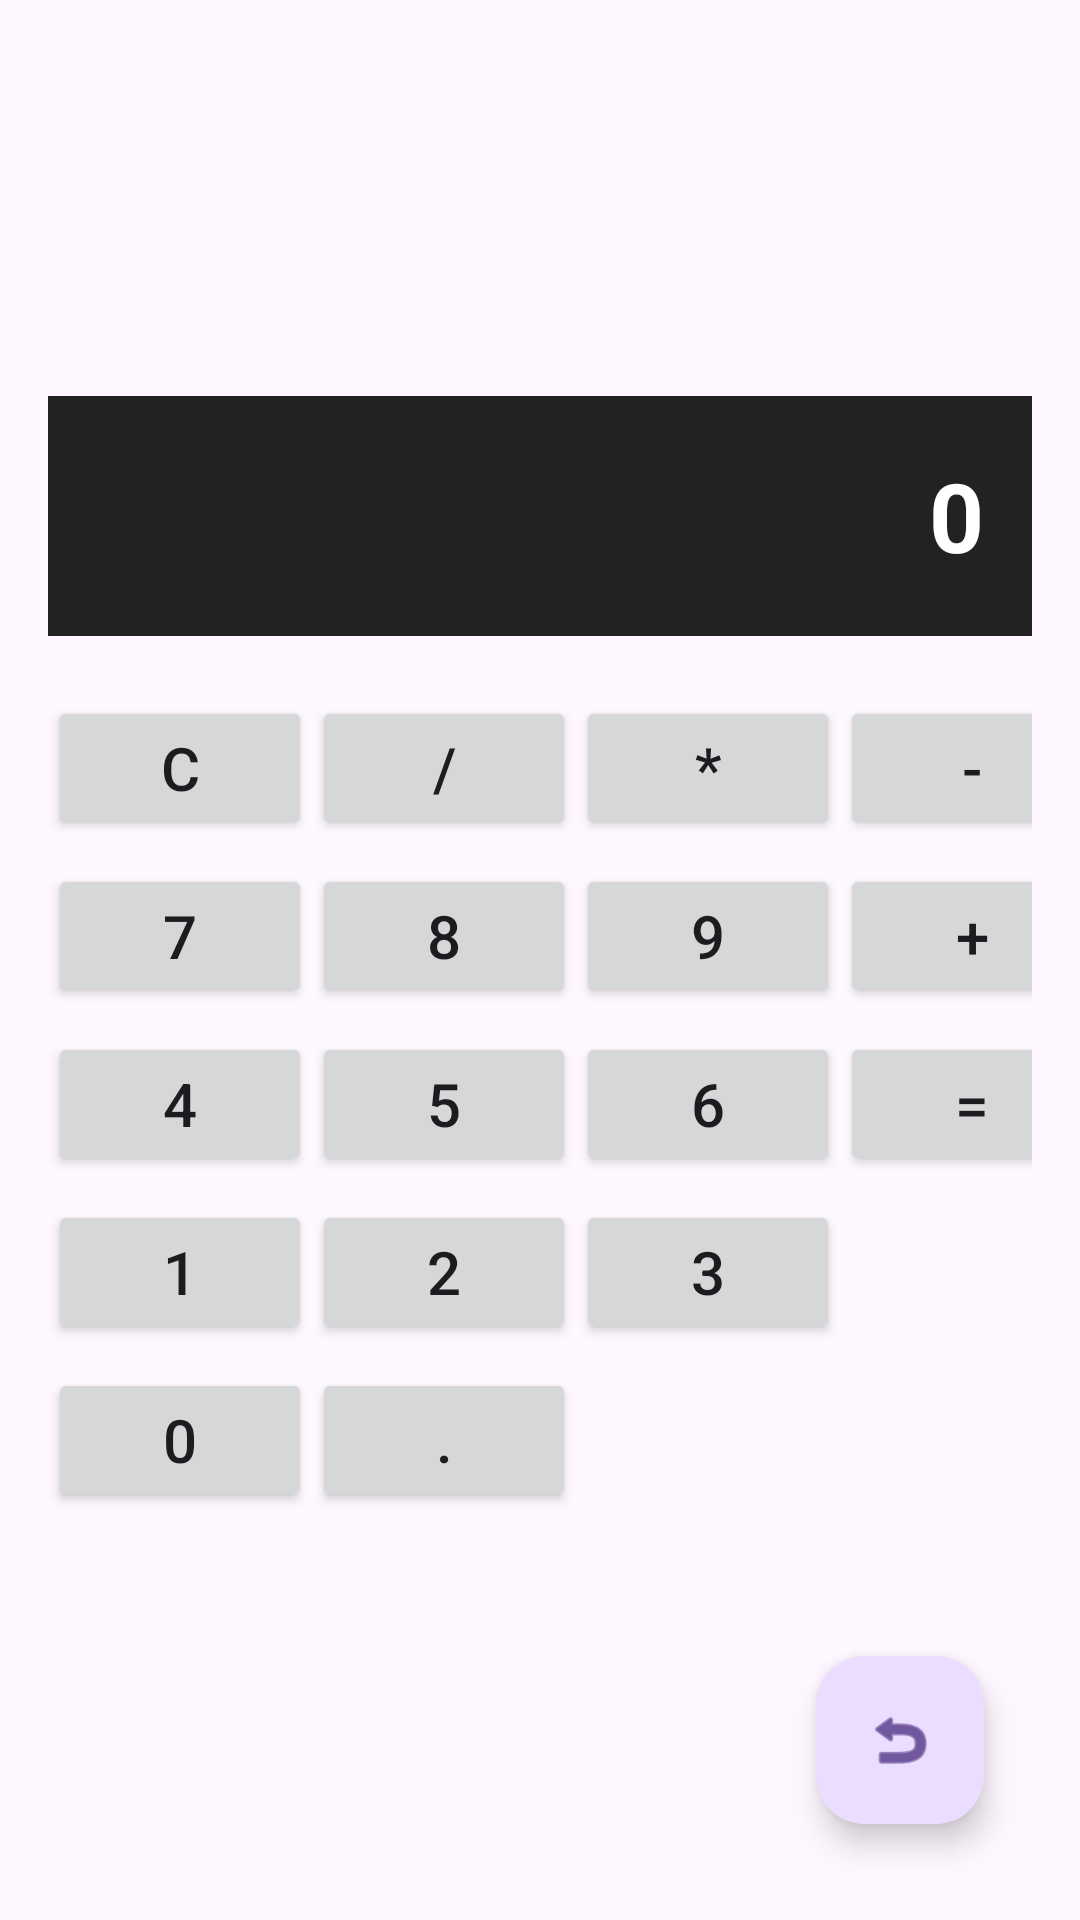

Icons on this 1080w x 1920h Android screen, each with the point to tap as (x,y):
Volver: (900,1740)
